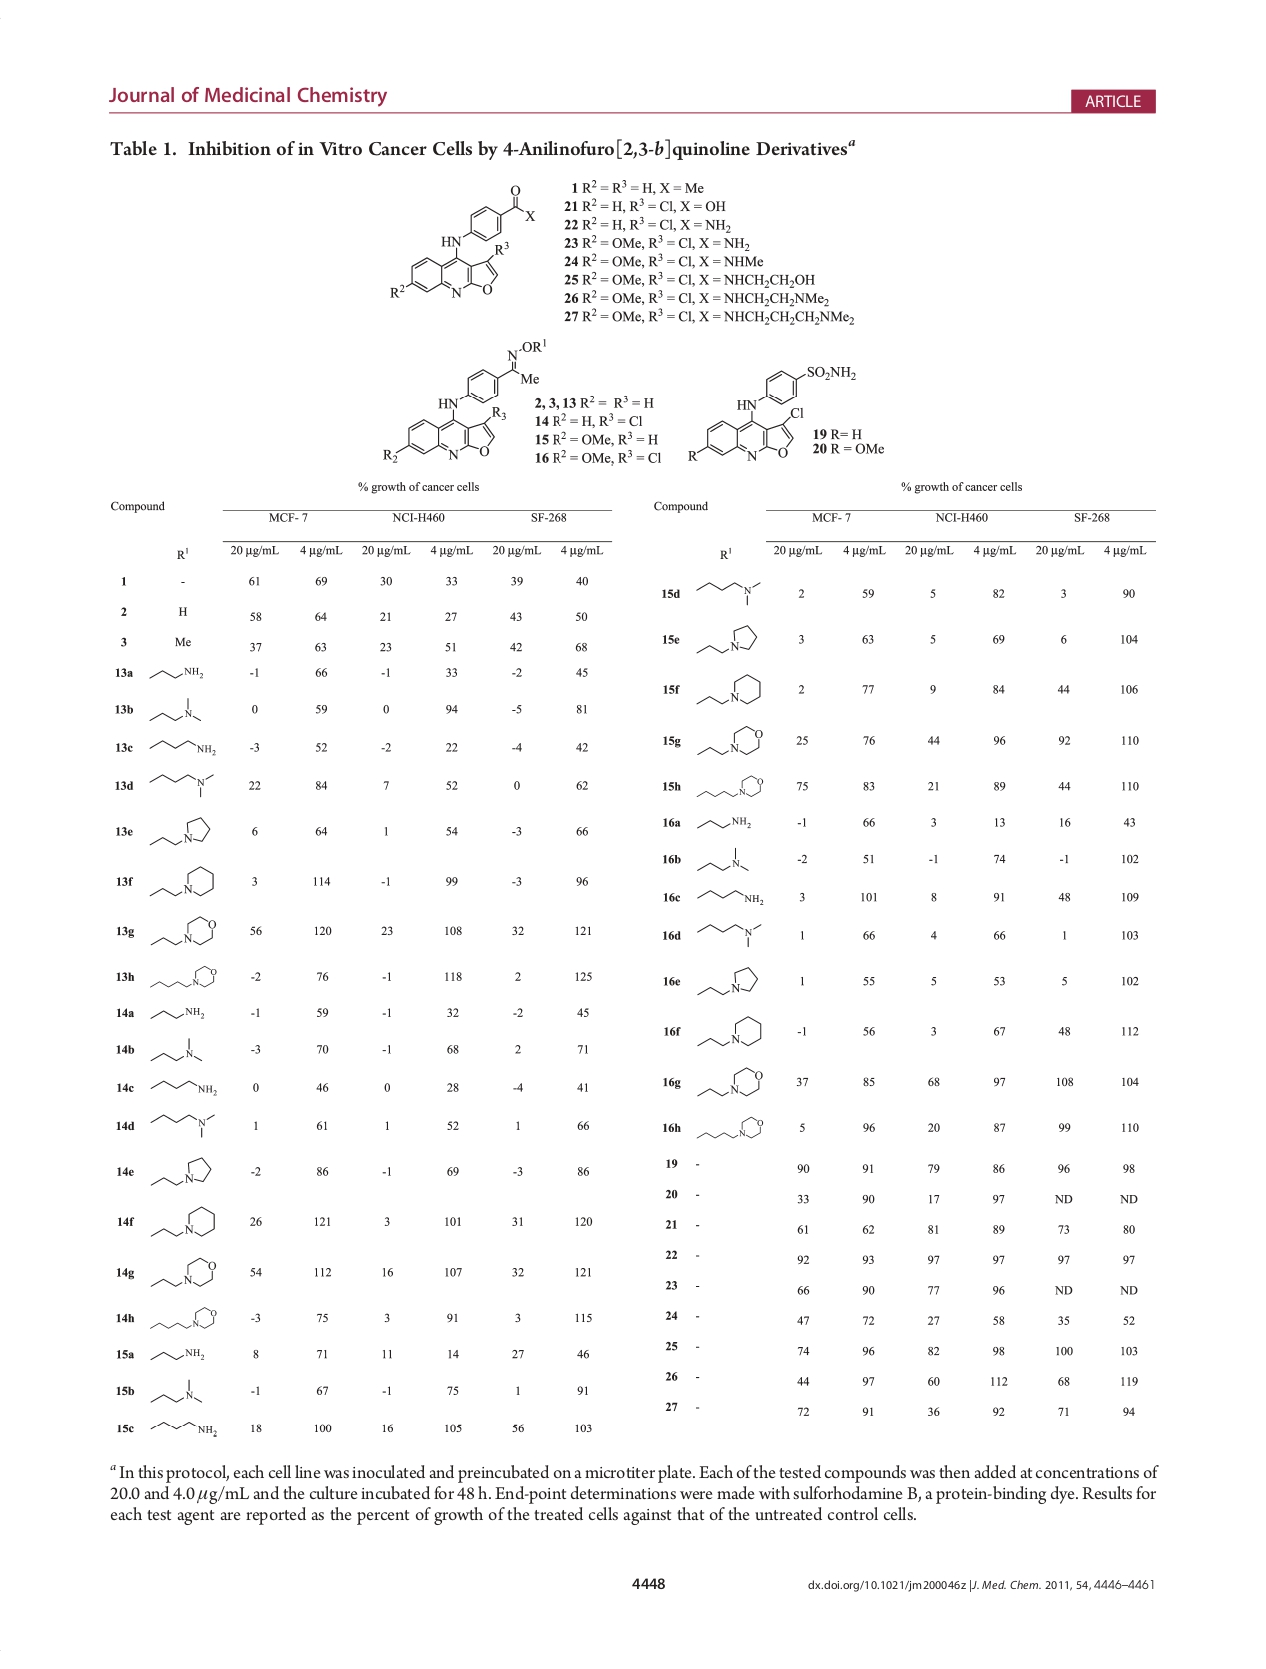exist_molecular: (379, 332, 548, 463), (384, 180, 536, 303), (684, 363, 856, 460), (144, 860, 215, 903), (693, 669, 765, 711), (148, 1249, 218, 1290), (693, 1063, 765, 1102), (693, 721, 765, 759), (694, 1013, 765, 1052), (149, 912, 218, 950), (145, 962, 219, 996), (145, 813, 211, 851), (693, 918, 766, 952), (150, 1204, 218, 1239), (696, 962, 761, 999), (693, 573, 765, 606), (144, 766, 215, 798), (145, 1303, 219, 1334), (148, 1108, 217, 1140), (697, 621, 757, 657), (149, 1156, 214, 1188), (693, 773, 767, 801), (148, 1374, 207, 1408), (692, 843, 753, 875), (696, 1114, 765, 1142), (146, 693, 202, 726), (144, 733, 217, 758), (148, 1036, 206, 1065), (696, 883, 763, 906), (149, 1079, 219, 1100), (149, 1418, 219, 1439), (142, 664, 205, 686), (146, 1343, 207, 1366), (148, 1003, 206, 1023), (696, 813, 754, 833)
